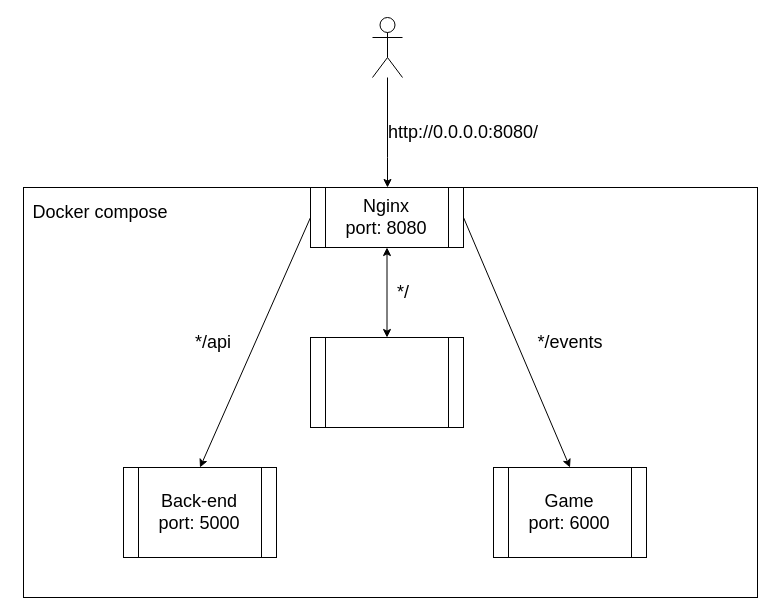
This 775x615 diagram has some shape labels left out. Here are the shapes that lost their labels. From the top down, the centre of each, then its label:
point (387, 47): User
point (387, 382): Front-End port: 80
